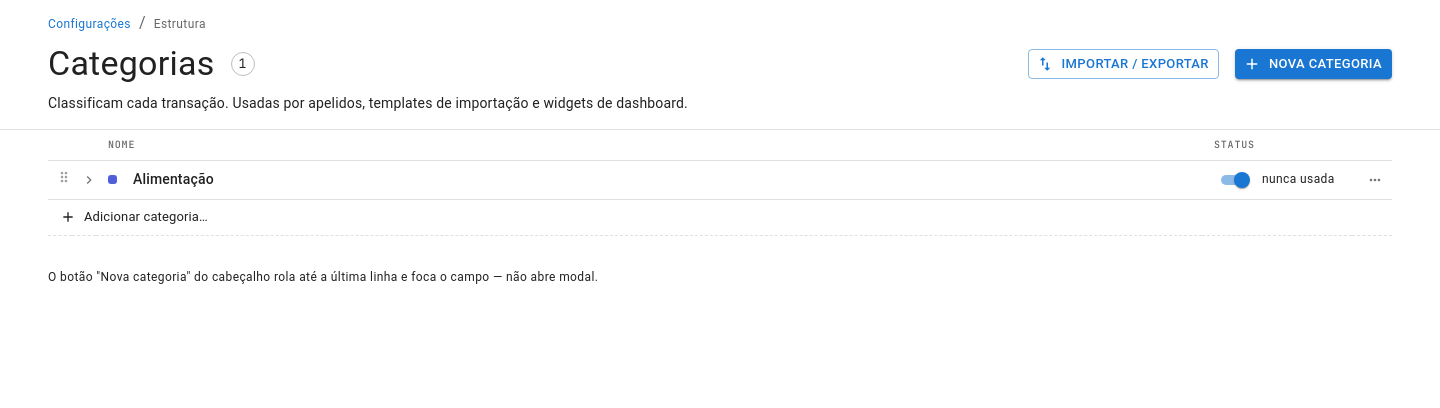
Test: CategoriesManager › expõe verUso e mesclar na linha de categoria, mas não duplicar (Spec 68 §9 P8)
Click the button named "Ações desta linha: Alimentação".
click(1375, 180)  # box 1362,166 -> 1388,192
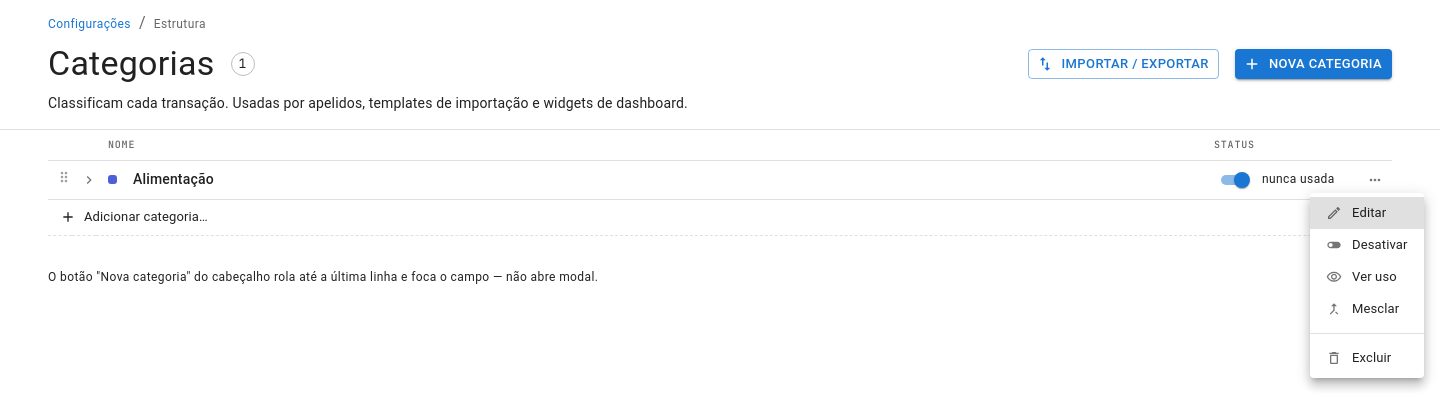
Check: the menu item "Ver uso" is shown, box 1326,269 -> 1397,285
Check: the menu item "Mesclar" is shown, box 1326,301 -> 1399,317
